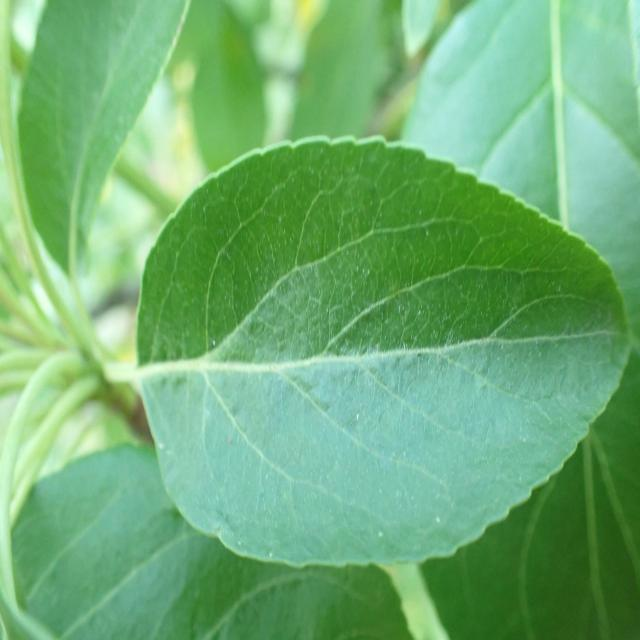healthy: (138, 132, 634, 569), (2, 443, 450, 640), (401, 0, 640, 350), (14, 0, 189, 276)
